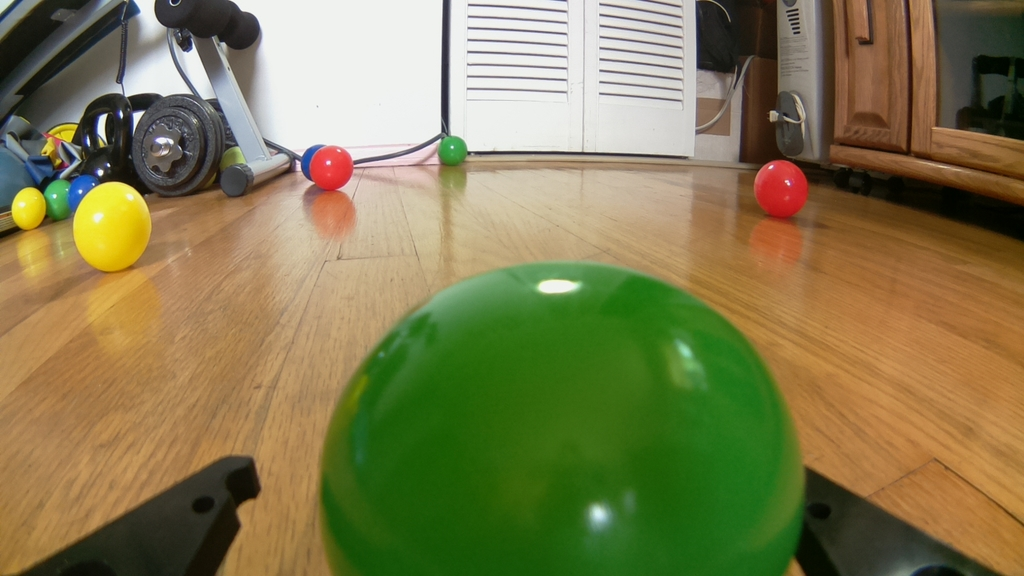ball: (312, 259, 808, 576)
